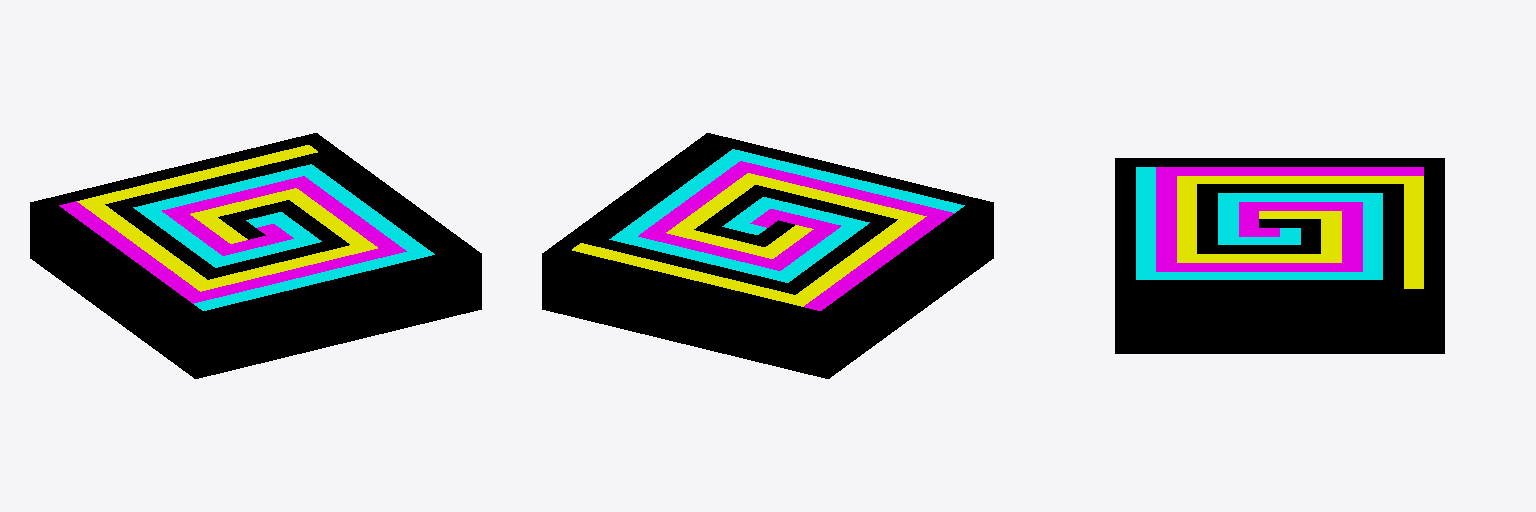
3 renders of one model, left to right at view 1: azimuth 30°, elevation 25°; view 2: azimuth 150°, elevation 25°; view 3: azimuth 270°, elevation 25°, orthographic.
Parts seen in each view (by area): view 1: back1; view 2: back1; view 3: back1.
Boxes of the visible parts, x1=… form: back1: x1=30, y1=133, x2=481, y2=378; back1: x1=542, y1=133, x2=993, y2=378; back1: x1=1115, y1=158, x2=1444, y2=353.
Size of the model in its own units: 16 by 3 by 16.
Materials: 1 (1 with a texture image).